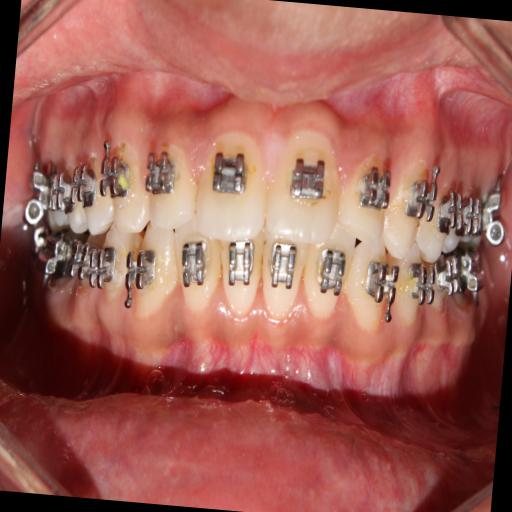correct_brace: (284, 152, 332, 208), (206, 146, 254, 200), (355, 160, 396, 218), (142, 148, 182, 198)
incorrect_brace: (138, 120, 200, 240), (337, 142, 398, 248)
